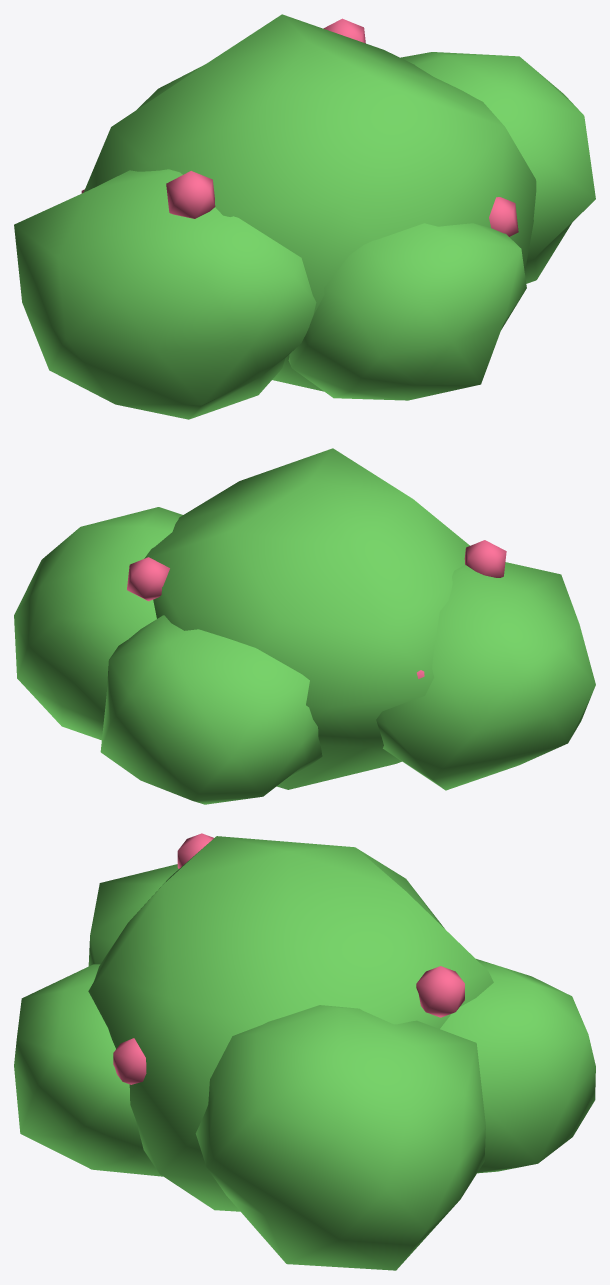
File: bush.fbx
The picture shows the model from 3 angles, top to bottom: view 1: azimuth 30°, elevation 25°; view 2: azimuth 150°, elevation 25°; view 3: azimuth 270°, elevation 25°; orthographic projection. The views are drawn at different scales.
Parts seen in each view (by area): view 1: Leaf_bush, Berry_bush; view 2: Leaf_bush, Berry_bush; view 3: Leaf_bush, Berry_bush.
Part boxes in pixels (left/top/right/bottom): Leaf_bush: left=14, top=14, right=595, bottom=419; Berry_bush: left=81, top=18, right=518, bottom=236; Leaf_bush: left=14, top=448, right=595, bottom=804; Berry_bush: left=127, top=540, right=506, bottom=678; Leaf_bush: left=14, top=836, right=595, bottom=1270; Berry_bush: left=113, top=833, right=464, bottom=1084.
Size of the model in its own units: 2.6 by 1.43 by 2.24.
